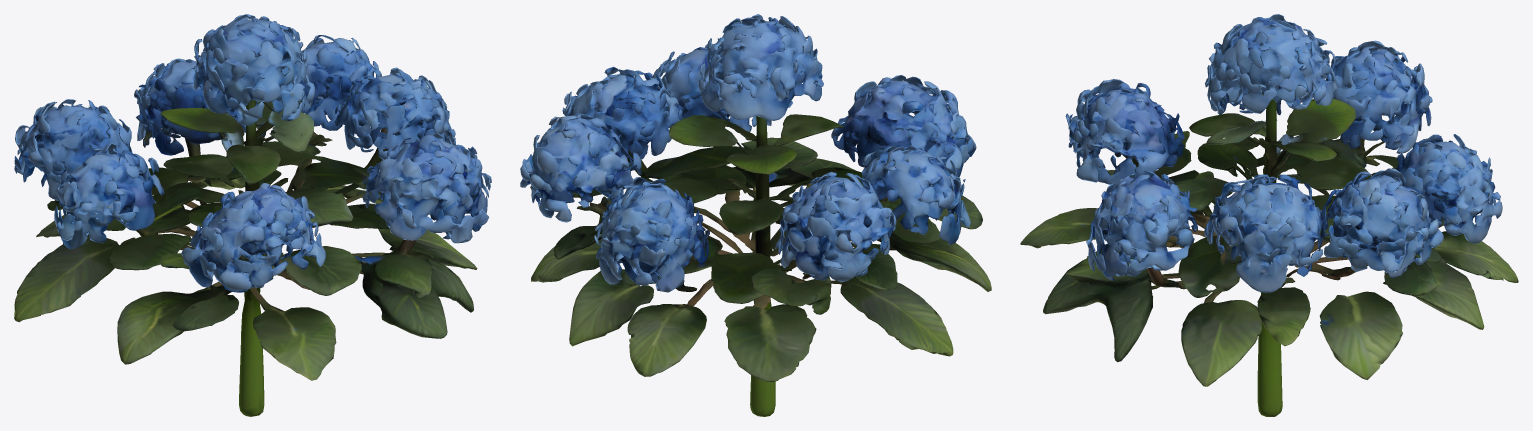
The model's file is nature-bush-hydrangea.glb.
3 views of the same model, side by side, from view 1: azimuth 30°, elevation 25°; view 2: azimuth 150°, elevation 25°; view 3: azimuth 270°, elevation 25° (orthographic).
Parts seen in each view (by area): view 1: tripo_node_a652eaed-691d-4b61-abd2-c8f6fc5c2174; view 2: tripo_node_a652eaed-691d-4b61-abd2-c8f6fc5c2174; view 3: tripo_node_a652eaed-691d-4b61-abd2-c8f6fc5c2174.
Part boxes in pixels (x1=…): tripo_node_a652eaed-691d-4b61-abd2-c8f6fc5c2174: x1=14, y1=14, x2=491, y2=416; tripo_node_a652eaed-691d-4b61-abd2-c8f6fc5c2174: x1=520, y1=14, x2=991, y2=416; tripo_node_a652eaed-691d-4b61-abd2-c8f6fc5c2174: x1=1020, y1=14, x2=1518, y2=416.
Size of the model in its own units: 1.4 by 1.2 by 1.38.
1 material, 1 textured.
